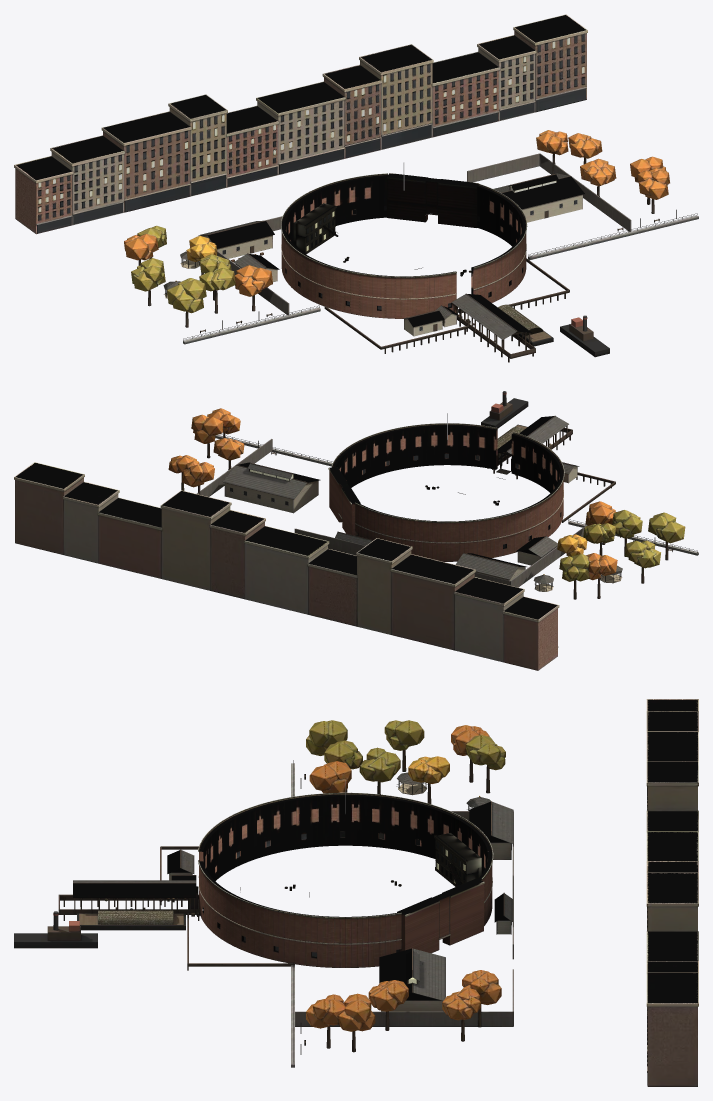
File: castle_exterior.glb
The picture shows the model from 3 angles, top to bottom: view 1: azimuth 30°, elevation 25°; view 2: azimuth 150°, elevation 25°; view 3: azimuth 270°, elevation 25°; orthographic projection. The views are drawn at different scales.
Visible parts, largest first — view 1: buildings, fort, trees, boxes, sheds, office, small; view 2: buildings, fort, trees, sheds, boxes, small; view 3: fort, buildings, trees, sheds, boxes, small, office.
Part boxes in pixels (left/top/right/bottom): buildings: left=14, top=14, right=587, bottom=234; fort: left=281, top=173, right=527, bottom=318; trees: left=124, top=130, right=669, bottom=327; boxes: left=183, top=153, right=698, bottom=362; sheds: left=198, top=173, right=584, bottom=352; office: left=293, top=203, right=336, bottom=254; small: left=163, top=219, right=659, bottom=341; buildings: left=14, top=462, right=559, bottom=670; fort: left=328, top=423, right=564, bottom=561; trees: left=168, top=408, right=685, bottom=599; sheds: left=223, top=415, right=579, bottom=580; boxes: left=196, top=398, right=698, bottom=587; small: left=271, top=391, right=673, bottom=591; fort: left=198, top=792, right=493, bottom=967; buildings: left=646, top=699, right=698, bottom=1086; trees: left=306, top=720, right=505, bottom=1052; sheds: left=73, top=801, right=513, bottom=1011; boxes: left=14, top=760, right=513, bottom=1067; small: left=53, top=772, right=490, bottom=1045; office: left=434, top=833, right=481, bottom=886.
Size of the model in its own units: 184 by 35.28 by 163.
Materials: 7 (7 with a texture image).
